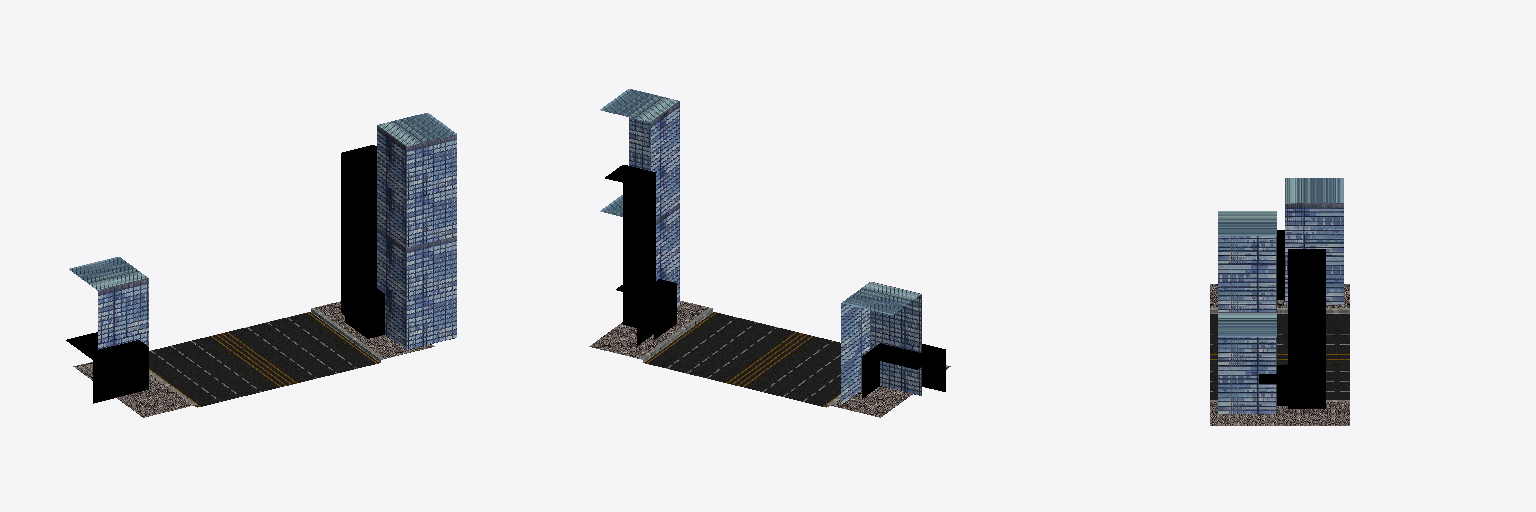
The picture shows the model from 3 angles: view 1: azimuth 30°, elevation 25°; view 2: azimuth 150°, elevation 25°; view 3: azimuth 270°, elevation 25°; orthographic projection.
Parts seen in each view (by area): view 1: Right, Floor, Left; view 2: Floor, Right, Left; view 3: Right, Floor, Left.
Part boxes in pixels (left/top/right/bottom): Right: left=341, top=113, right=456, bottom=349; Floor: left=73, top=301, right=434, bottom=417; Left: left=66, top=257, right=148, bottom=403; Floor: left=589, top=301, right=950, bottom=417; Right: left=600, top=89, right=679, bottom=345; Left: left=841, top=282, right=945, bottom=404; Right: left=1218, top=211, right=1325, bottom=413; Floor: left=1210, top=284, right=1349, bottom=425; Left: left=1277, top=178, right=1343, bottom=304.
Bounding box in the file's own units: 56 × 32.45 × 20.
5 materials, 2 textured.